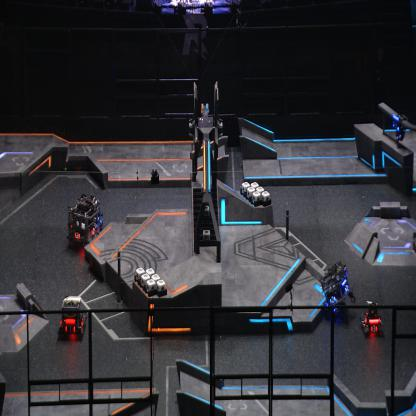car: (321, 261, 357, 314), (67, 195, 99, 247), (59, 295, 87, 339), (362, 300, 384, 338)
